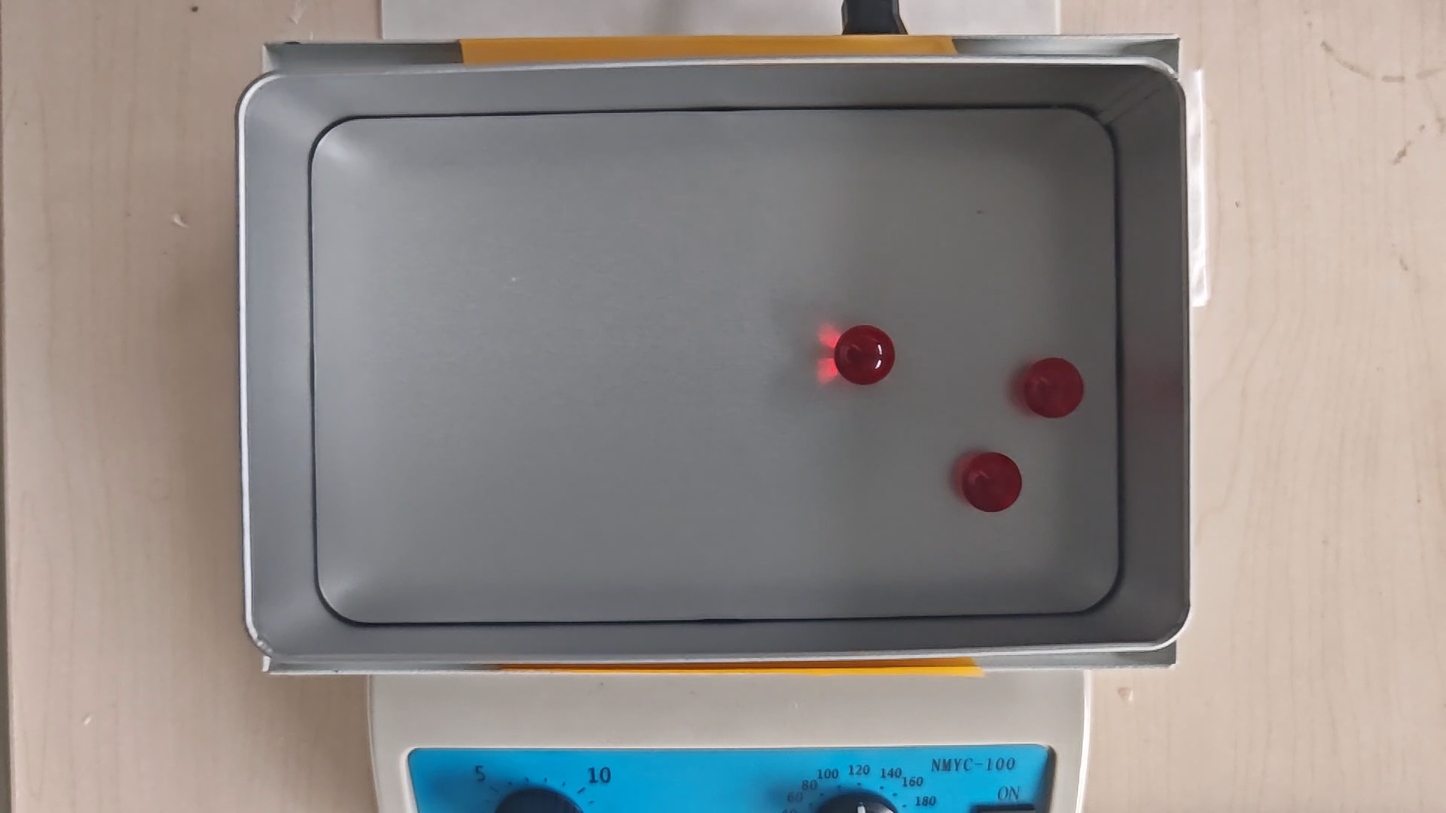ball: (960, 451, 1021, 515), (1023, 356, 1084, 419), (835, 324, 895, 388)
container: (307, 111, 1121, 620)
